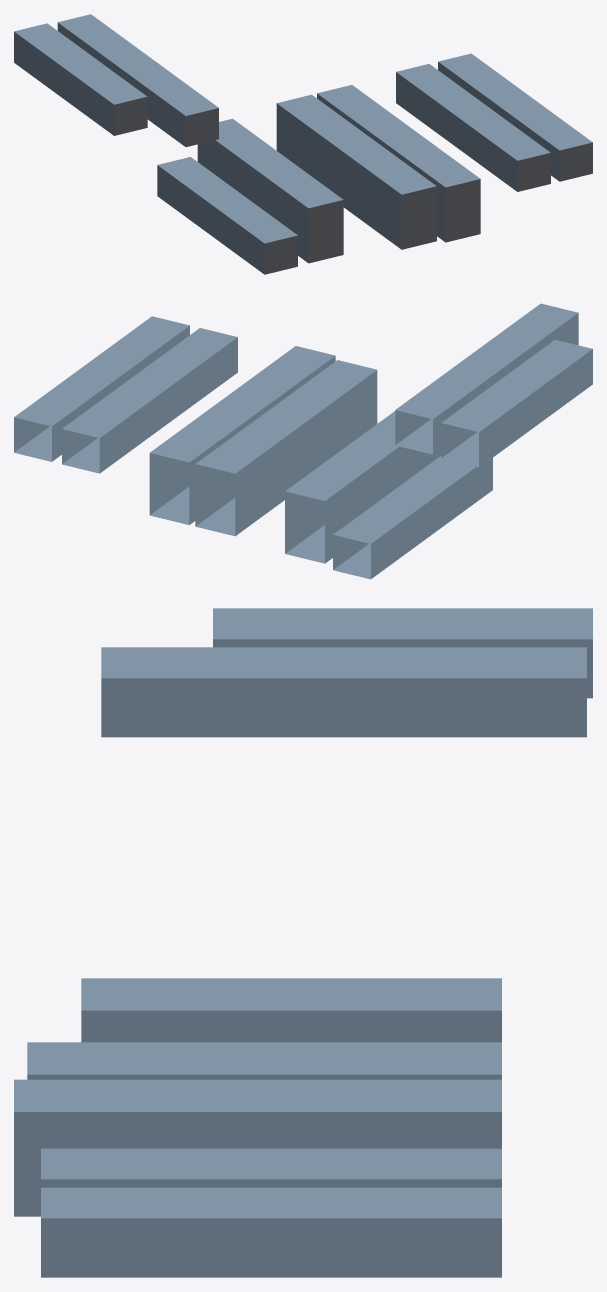
Rendered from island_bldg_09_10.obj.
3 renders of one model, top to bottom at view 1: azimuth 30°, elevation 25°; view 2: azimuth 150°, elevation 25°; view 3: azimuth 270°, elevation 25°, orthographic. The views are drawn at different scales.
Visible parts, largest first — view 1: island_bldg_09_10; view 2: island_bldg_09_10; view 3: island_bldg_09_10.
Boxes of the visible parts, x1,y1,x2,y2 form: island_bldg_09_10: (14,14,592,274); island_bldg_09_10: (14,303,592,579); island_bldg_09_10: (14,608,592,1277).
Size of the model in its own units: 247 by 96 by 151.
